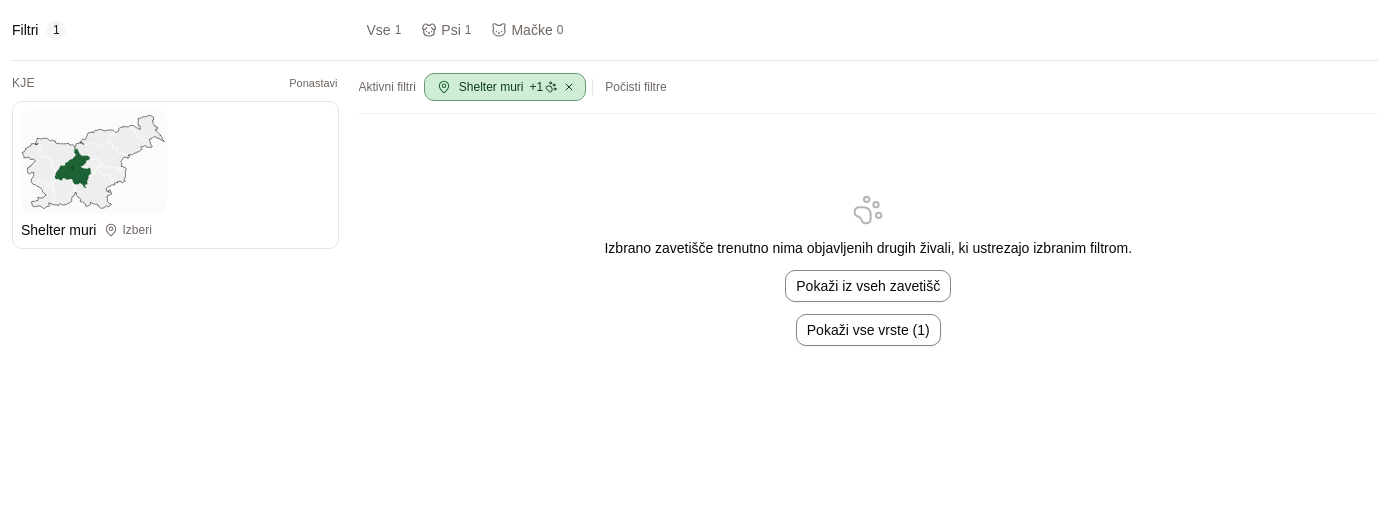
animal grid empty state › names the shelter-species conflict and offers to drop only the shelter
Check: the text "Izbrano zavetišče trenutno nima objavljenih drugih živali, ki ustrezajo izbranim filtrom." is shown, box [604,240,1132,256]
Click the button "Pokaži iz vseh zavetišč": (868, 286) [785,270,951,302]
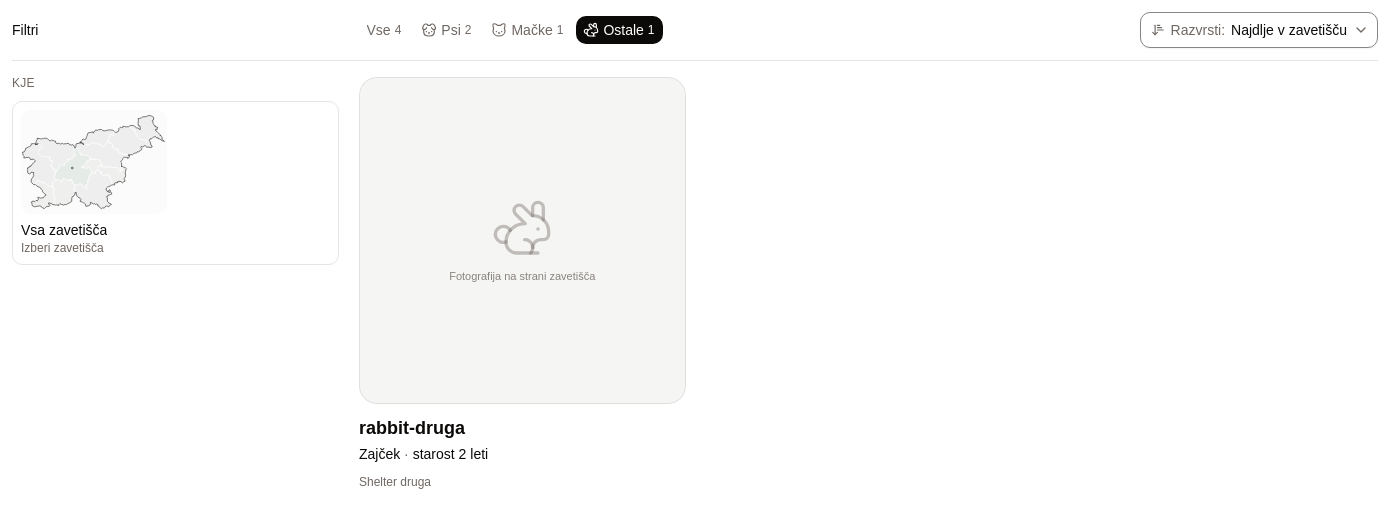
Check: the link "Shelter druga" is shown, box [358,474,430,488]
